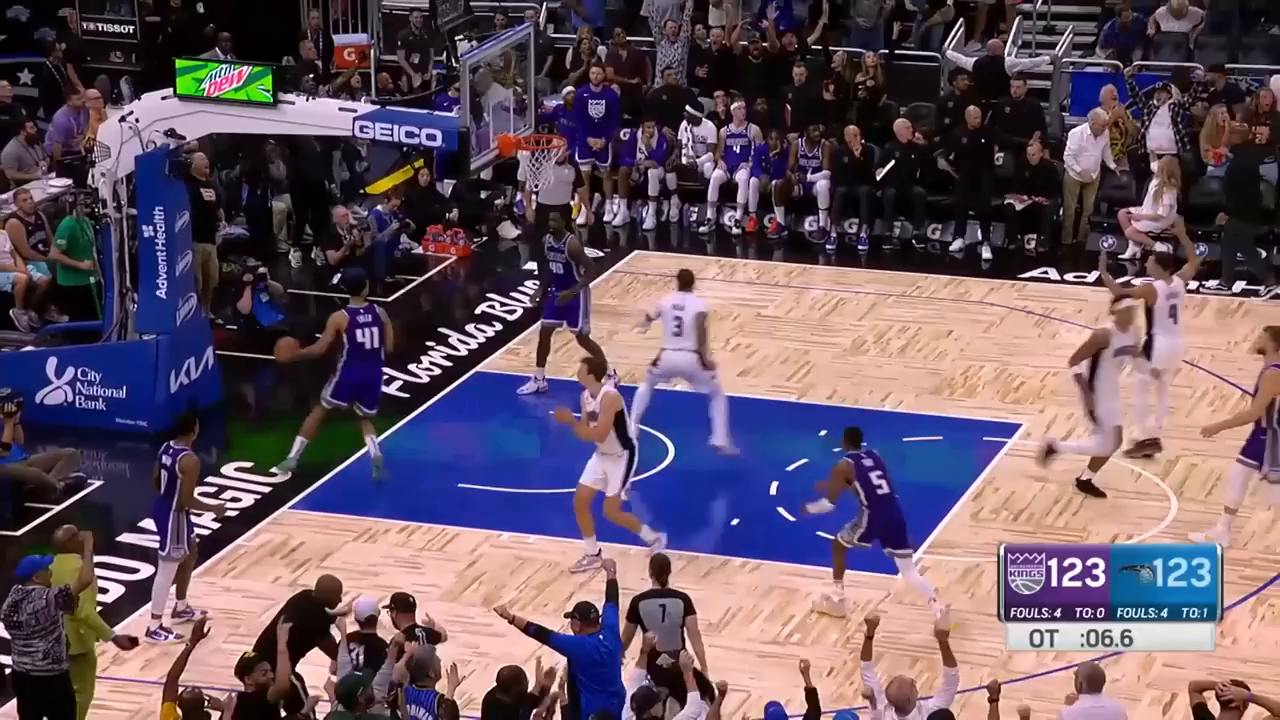ball: (273, 334, 302, 365)
net: (515, 132, 568, 191)
